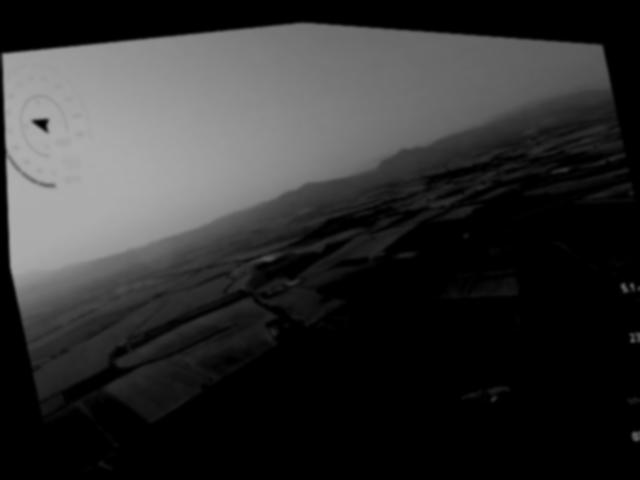hedef: (450, 358, 519, 416)
